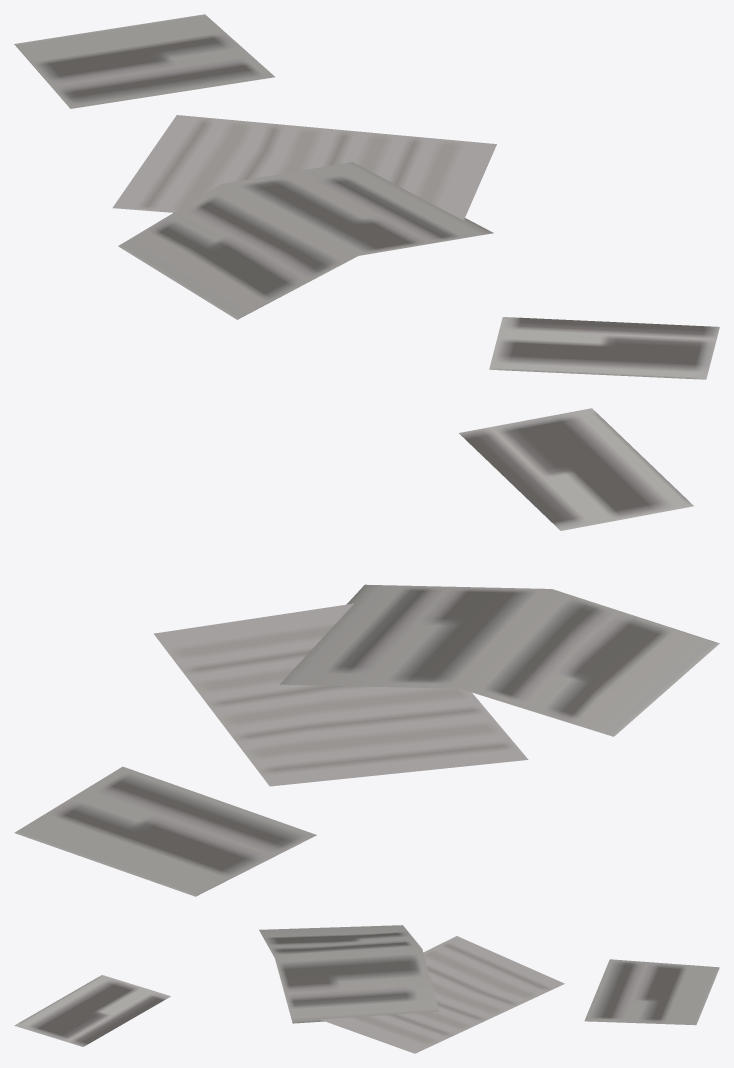
Rendered from SM_Prop_Rubbish_Papers_02.glb.
The picture shows the model from 3 angles, top to bottom: view 1: azimuth 30°, elevation 25°; view 2: azimuth 150°, elevation 25°; view 3: azimuth 270°, elevation 25°; orthographic projection. The views are drawn at different scales.
Parts seen in each view (by area): view 1: SM_Prop_Rubbish_Papers_02; view 2: SM_Prop_Rubbish_Papers_02; view 3: SM_Prop_Rubbish_Papers_02.
Boxes of the visible parts, x1,y1,x2,y2 form: SM_Prop_Rubbish_Papers_02: [14, 14, 719, 379]; SM_Prop_Rubbish_Papers_02: [14, 408, 719, 896]; SM_Prop_Rubbish_Papers_02: [14, 925, 719, 1053].
Size of the model in its own units: 0.3832 by 0.0217 by 0.8843.
Materials: 1 (1 with a texture image).
